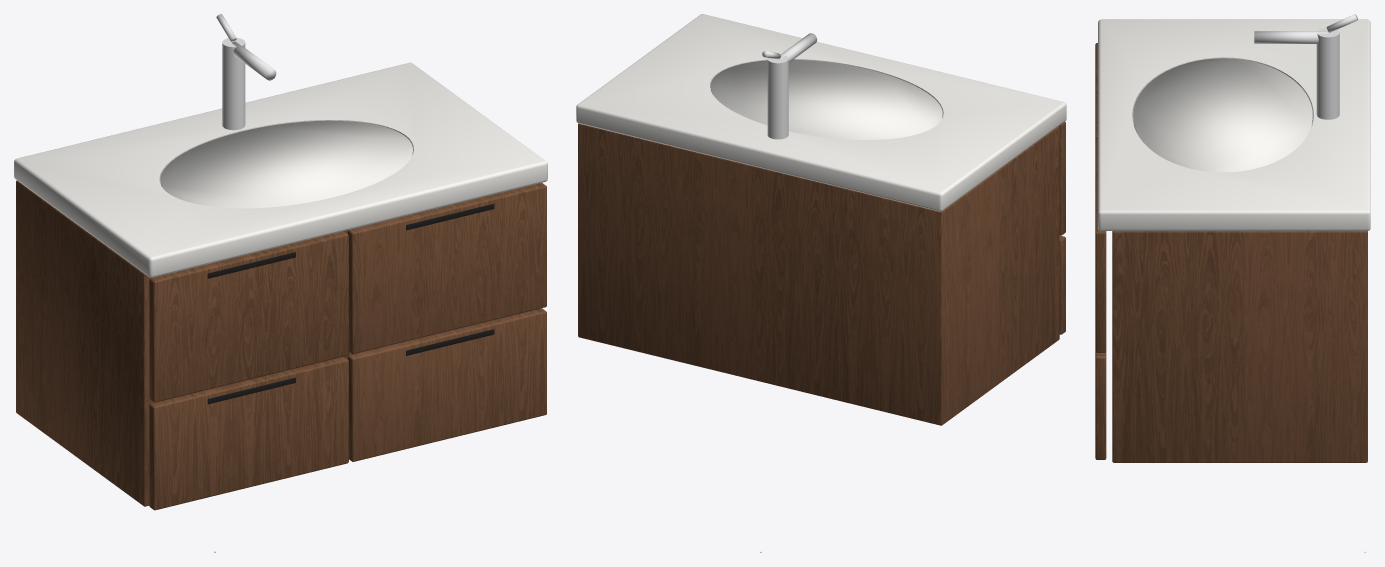
The model's file is vanity-walnut.glb.
3 views of the same model, side by side, from view 1: azimuth 30°, elevation 25°; view 2: azimuth 150°, elevation 25°; view 3: azimuth 270°, elevation 25° (orthographic). The views are drawn at different scales.
Visible parts, largest first — view 1: top, body, drawer.001, drawer.003, drawer, drawer.002, basin, tap, spout; view 2: body, top, basin, tap, drawer.001, drawer; view 3: body, top, basin, tap, drawer.003, drawer.002, spout.
Boxes of the visible parts, x1,y1,x2,y2 form: top: (14,62,547,277); body: (16,180,529,506); drawer.001: (149,231,348,402); drawer.003: (347,183,546,353); drawer: (149,356,348,510); drawer.002: (347,308,546,461); basin: (160,120,412,208); tap: (222,37,245,130); spout: (232,41,276,80); body: (578,123,1059,425); top: (576,14,1066,211); basin: (710,59,942,139); tap: (767,55,788,139); drawer.001: (1059,121,1065,235); drawer: (1059,235,1065,334); body: (1112,231,1367,462); top: (1098,19,1370,230); basin: (1133,58,1312,172); tap: (1316,28,1339,119); drawer.003: (1095,139,1106,352); drawer.002: (1095,351,1106,459); spout: (1254,31,1328,43).
Bounding box in the file's own units: 0.805 × 1.05 × 0.485.
5 materials, 1 textured.
